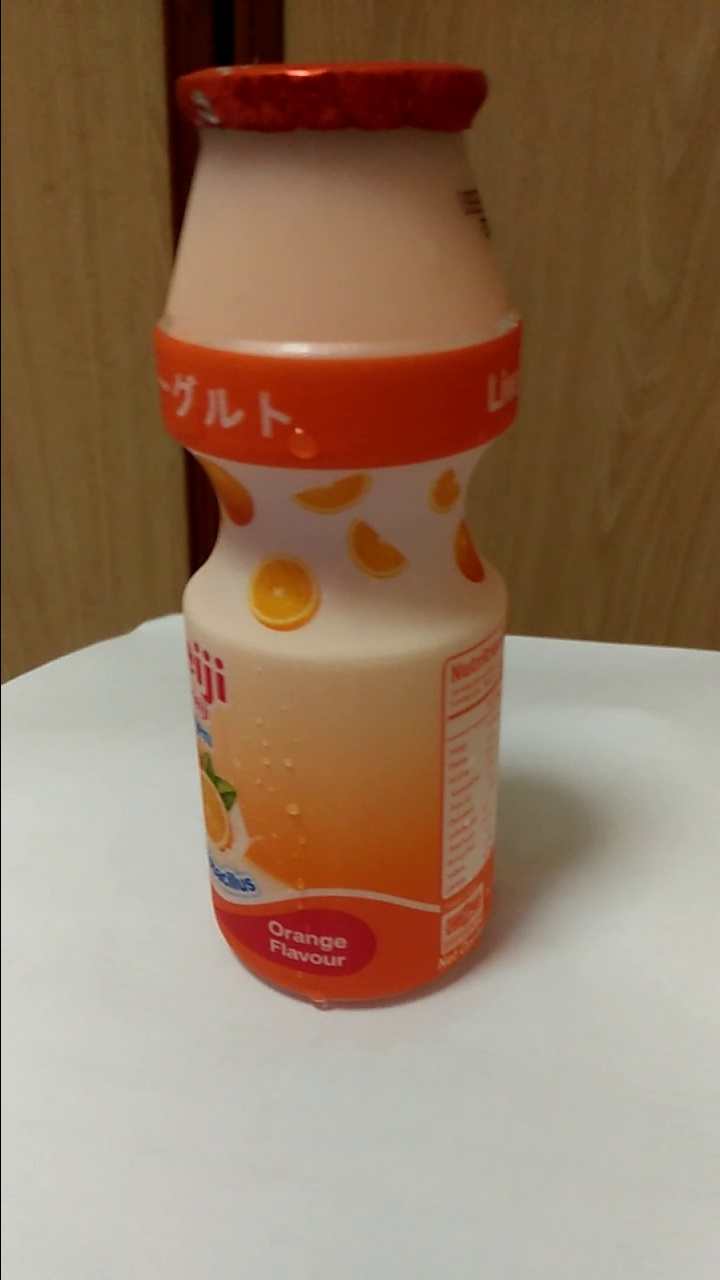milk: (166, 65, 519, 1002)
